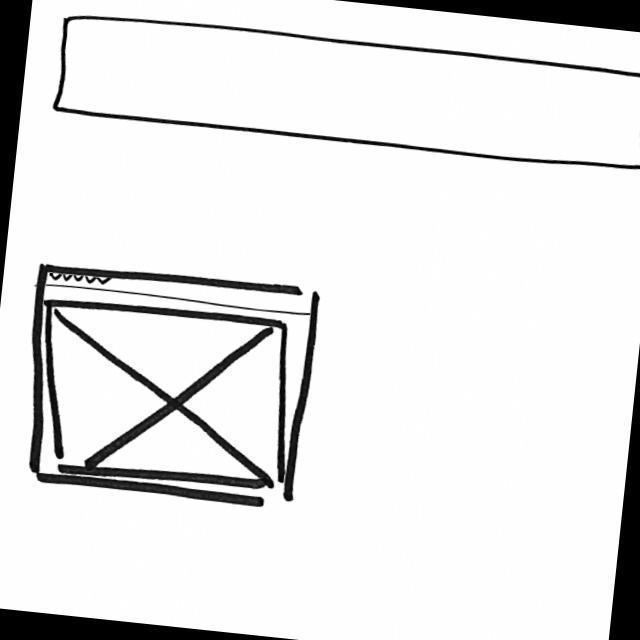container: (53, 11, 640, 177), (15, 262, 323, 510)
image: (32, 295, 298, 493)
text: (51, 273, 114, 287)
